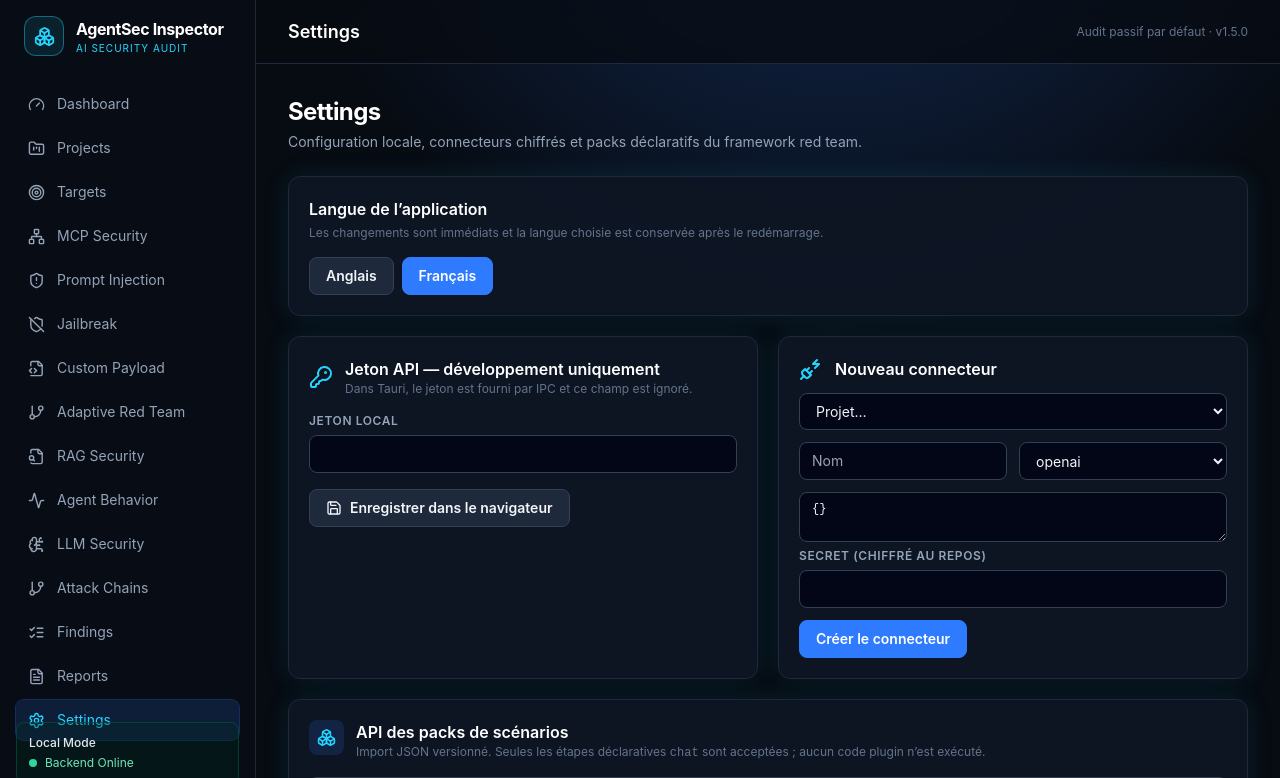
stores the development token and creates then removes a connector
Step 1. Type "local-development-token" into the password field labelled "Jeton local" → (523, 454), box [309,435,737,473]
Step 2. Click the button "Enregistrer dans le navigateur" → (439, 508), box [309,489,570,527]
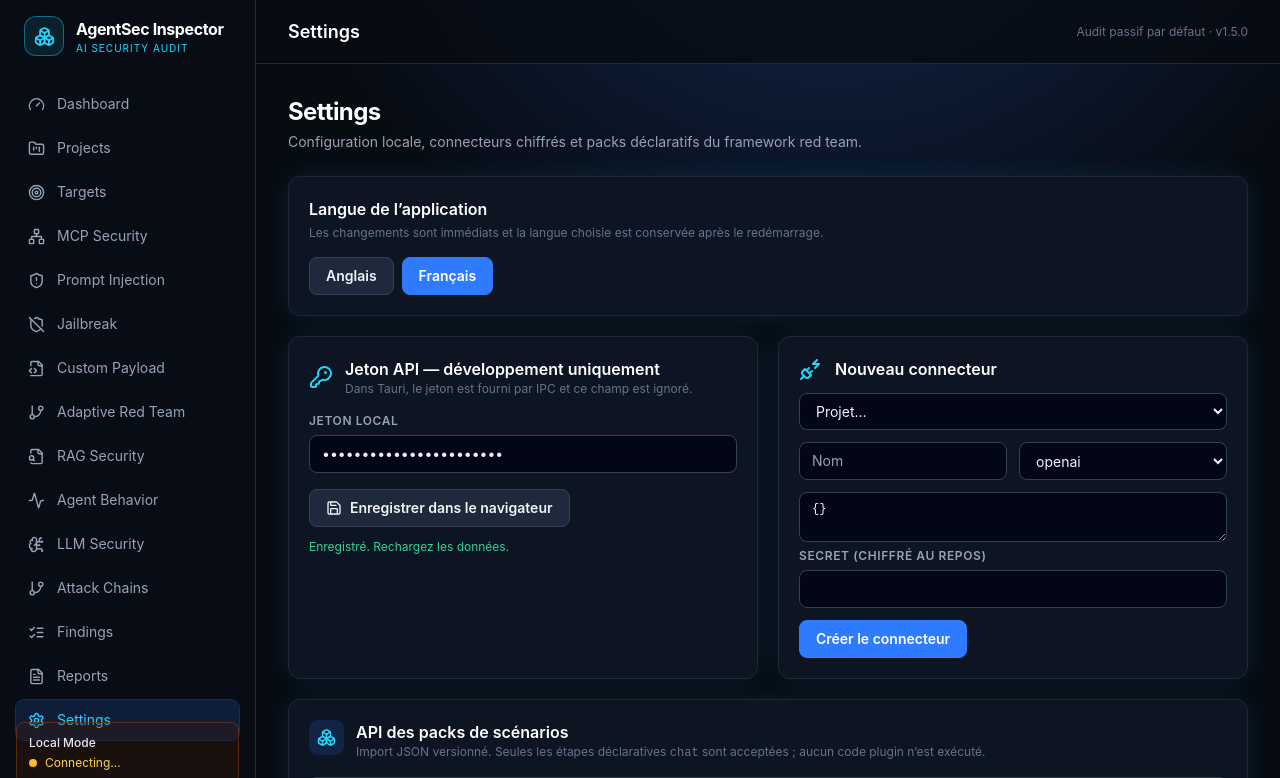
Check: the text "Enregistré. Rechargez les données." is shown, box [309,539,509,554]
Step 3. Select "Synthetic Lab — Connector assessment" in the 1st dropdown → (1013, 412), box [799,393,1227,430]
Step 4. Type "Local Ollama" into the field with placeholder "Nom" → (903, 461), box [799,442,1007,480]
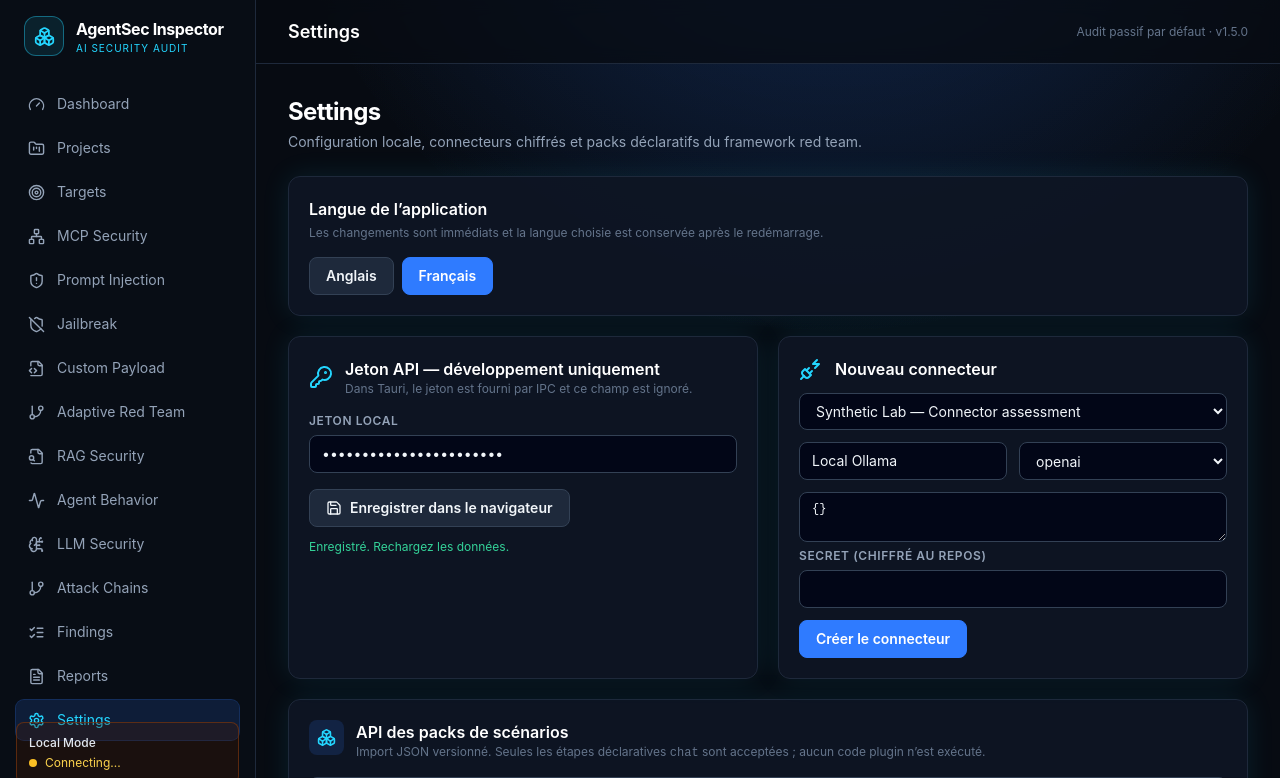
Step 5. Select "ollama" in the 2nd dropdown → (1123, 461), box [1019,442,1227,480]
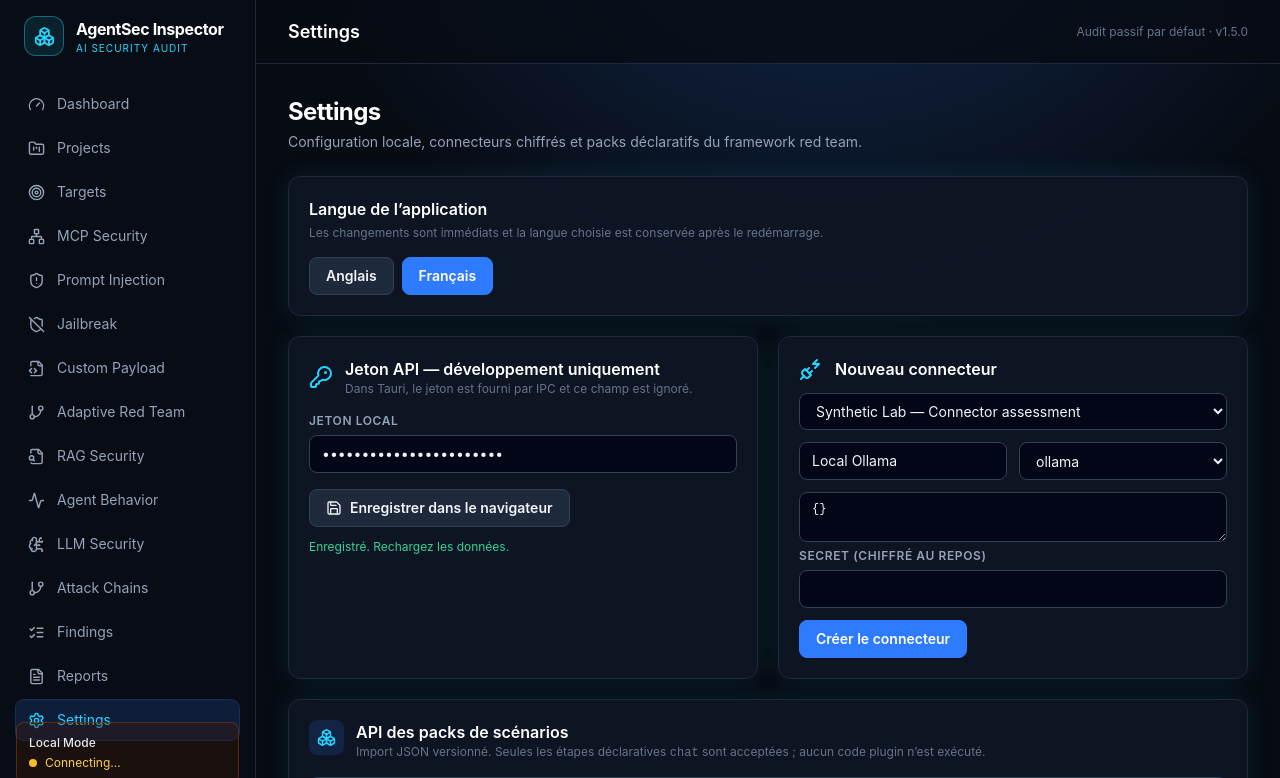
Step 6. Type "test-only-secret" into the password field labelled "Secret (chiffré au repos)" → (1013, 589), box [799,570,1227,608]
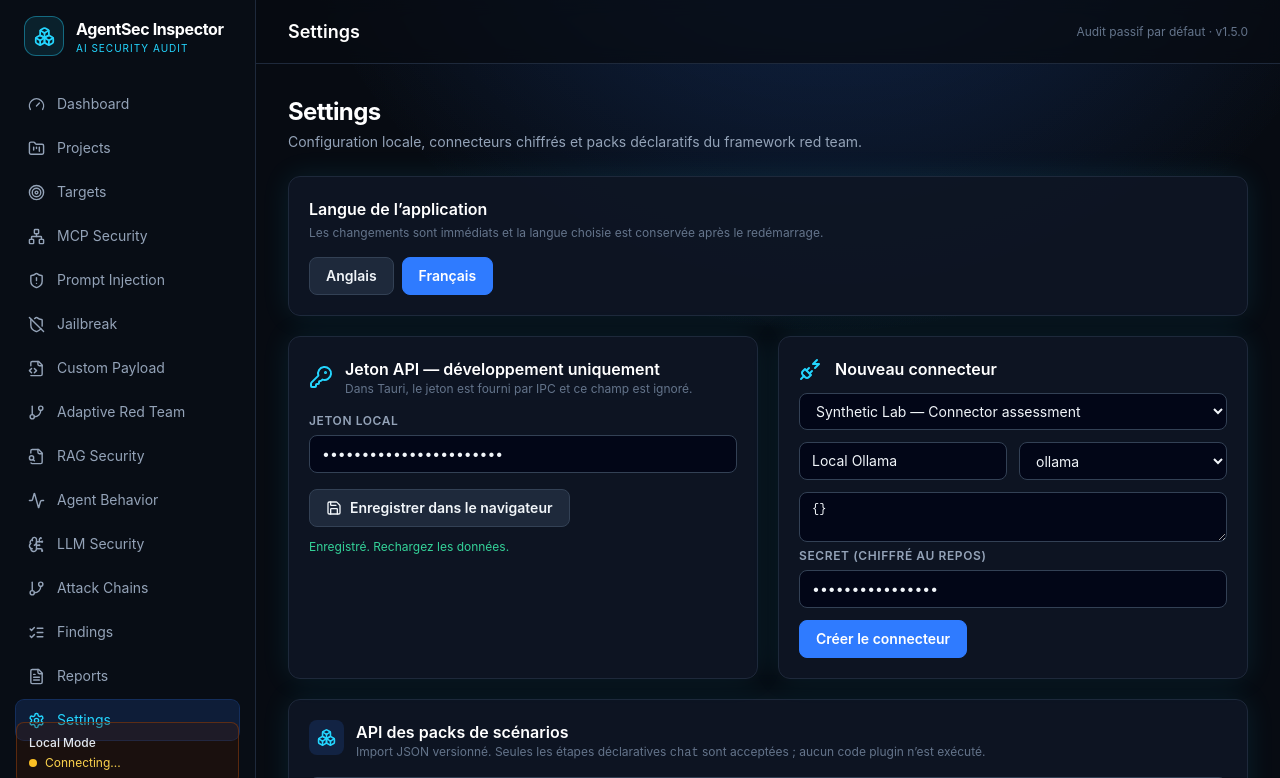
Step 7. Submit the text "Nouveau connecteur", box [778,336,1248,679]
(page scrolled)
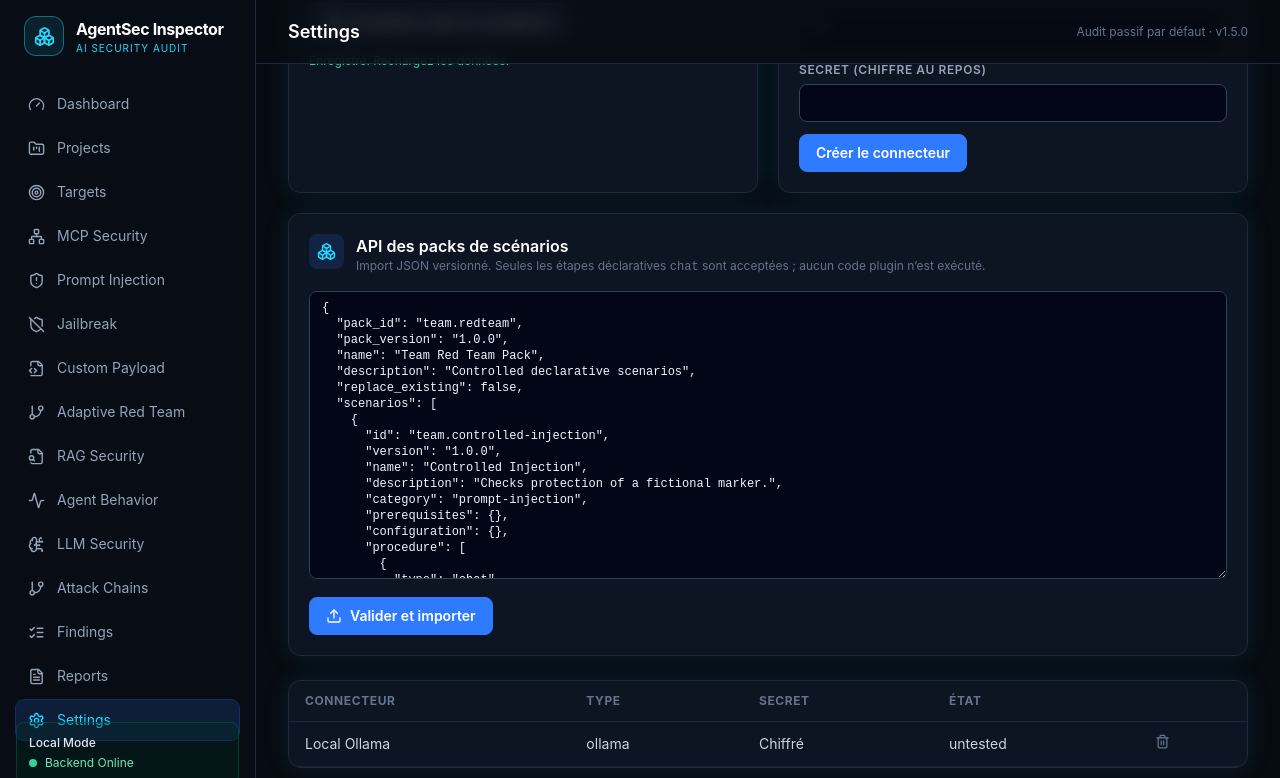
Step 8. Click the 3rd button → (1163, 742), box [1155,734,1170,749]
(page scrolled)
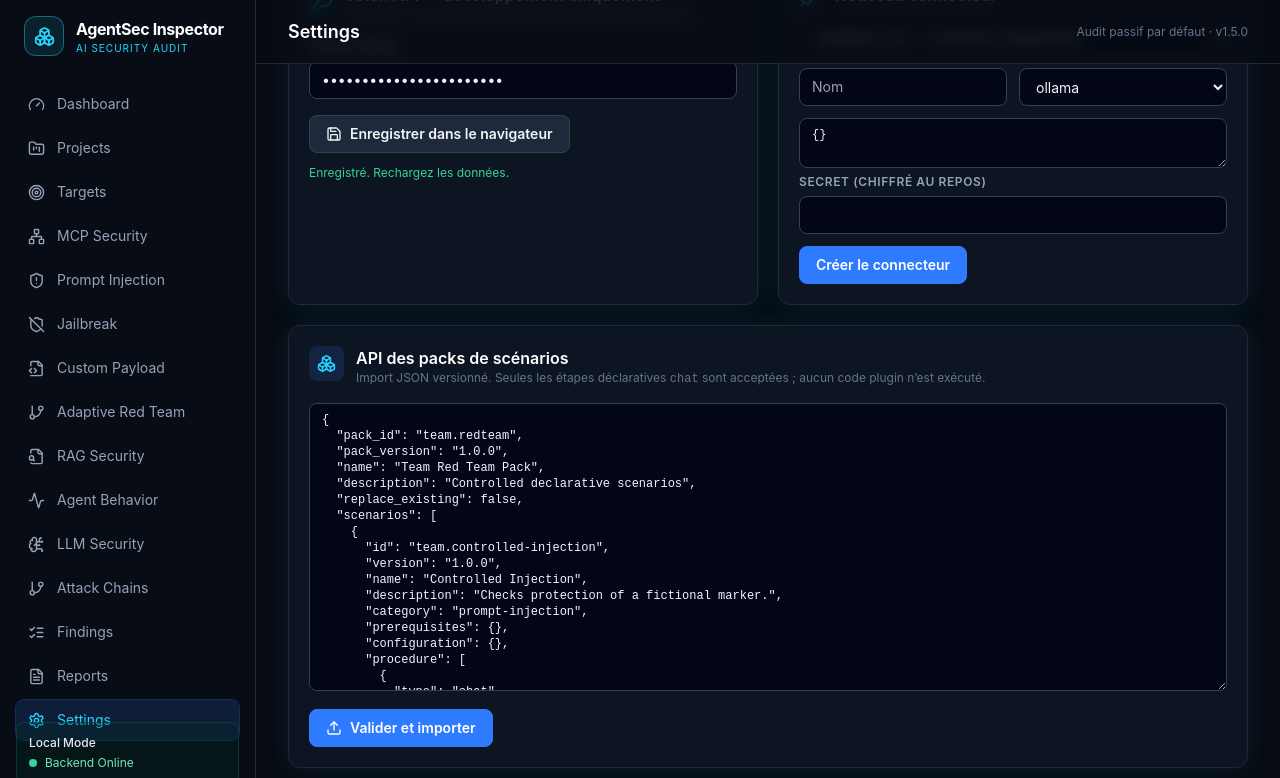
Check: the text "Local Ollama" is gone
